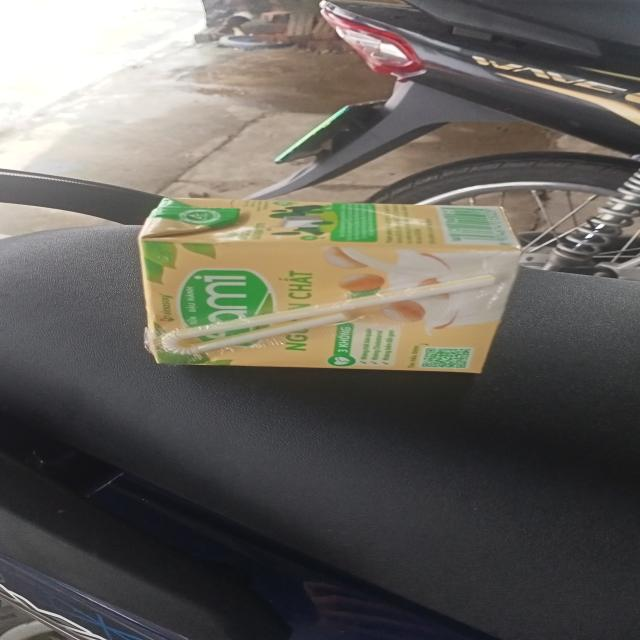Fami: (143, 198, 512, 370)
